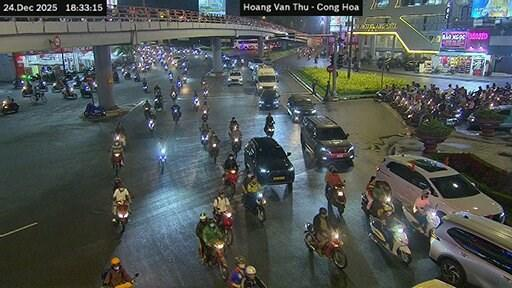motorbike: (368, 216, 410, 264), (304, 221, 345, 268), (361, 180, 393, 216), (402, 205, 438, 235), (208, 241, 226, 279), (243, 192, 265, 220), (326, 184, 344, 216), (217, 211, 230, 244), (115, 201, 128, 233), (223, 169, 236, 197), (114, 273, 138, 287), (83, 103, 105, 115), (29, 90, 47, 103), (157, 148, 166, 172), (3, 99, 18, 113), (112, 153, 121, 175), (61, 86, 76, 99), (231, 136, 240, 157), (208, 143, 217, 162), (114, 133, 125, 147), (80, 85, 92, 97), (71, 76, 82, 88), (153, 97, 163, 108), (52, 81, 63, 91), (201, 130, 207, 148), (172, 107, 179, 122), (22, 85, 32, 95), (36, 81, 47, 90), (265, 125, 274, 135), (144, 104, 150, 118), (169, 90, 176, 102), (12, 80, 22, 88), (147, 117, 153, 130), (192, 98, 198, 111), (201, 109, 208, 120), (153, 85, 160, 94), (202, 89, 208, 99), (133, 73, 140, 81), (141, 82, 147, 91), (112, 72, 118, 81), (176, 80, 182, 89), (167, 72, 172, 82), (124, 72, 130, 79), (182, 75, 185, 82), (163, 63, 166, 70)
